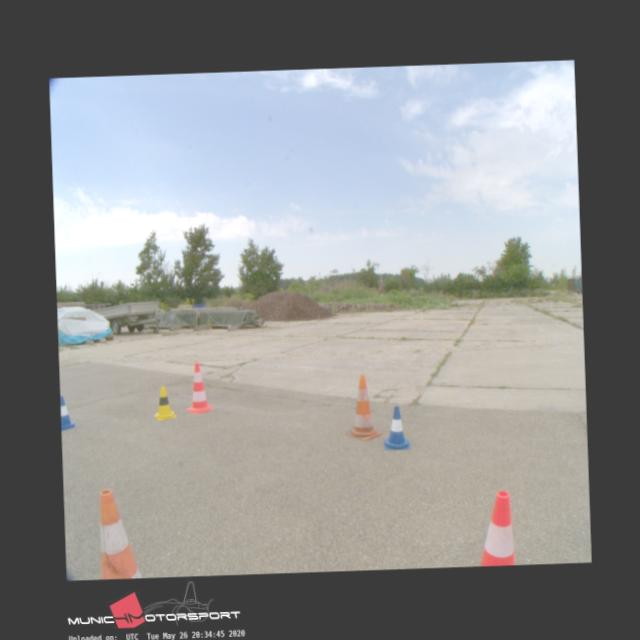blue_cone: (383, 404, 409, 448), (60, 394, 76, 430)
large_orange_cone: (344, 374, 381, 440), (185, 362, 212, 412)
yellow_cone: (152, 385, 176, 419)
